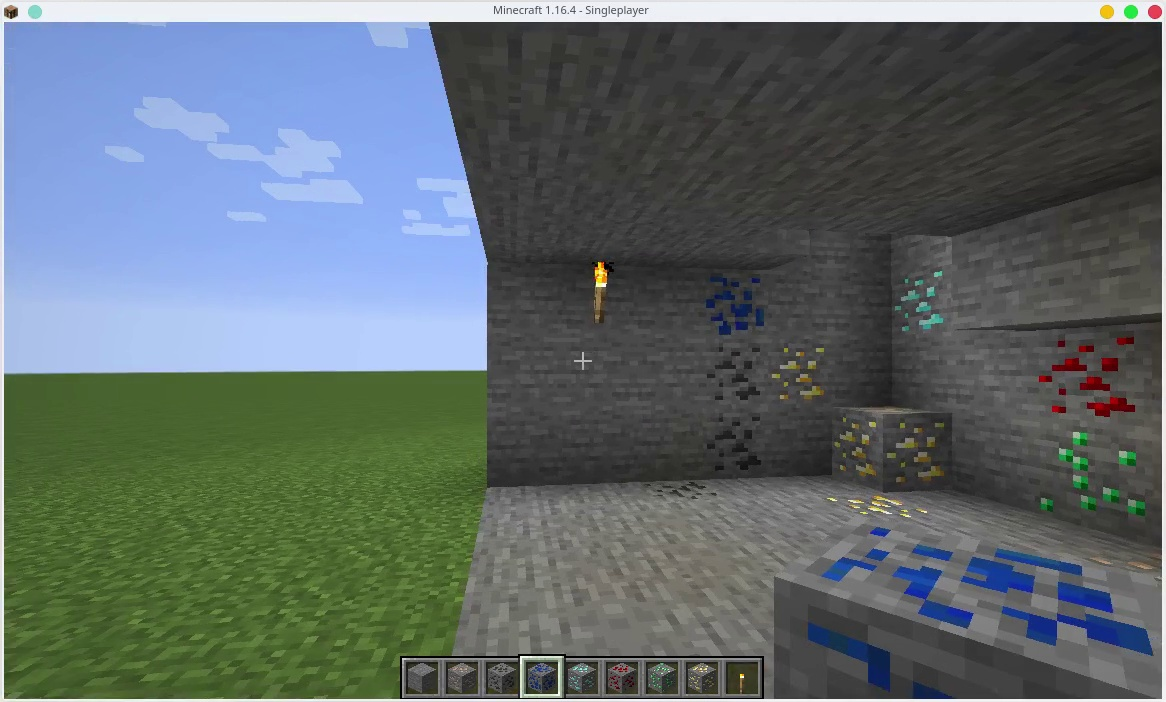gold: (829, 408, 955, 483), (765, 342, 832, 401), (829, 490, 932, 526), (689, 662, 718, 693)
